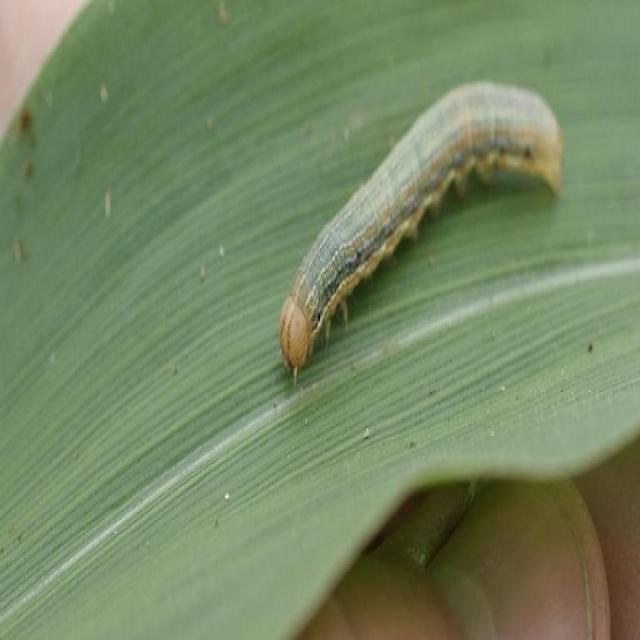armyworm: (271, 58, 568, 374)
